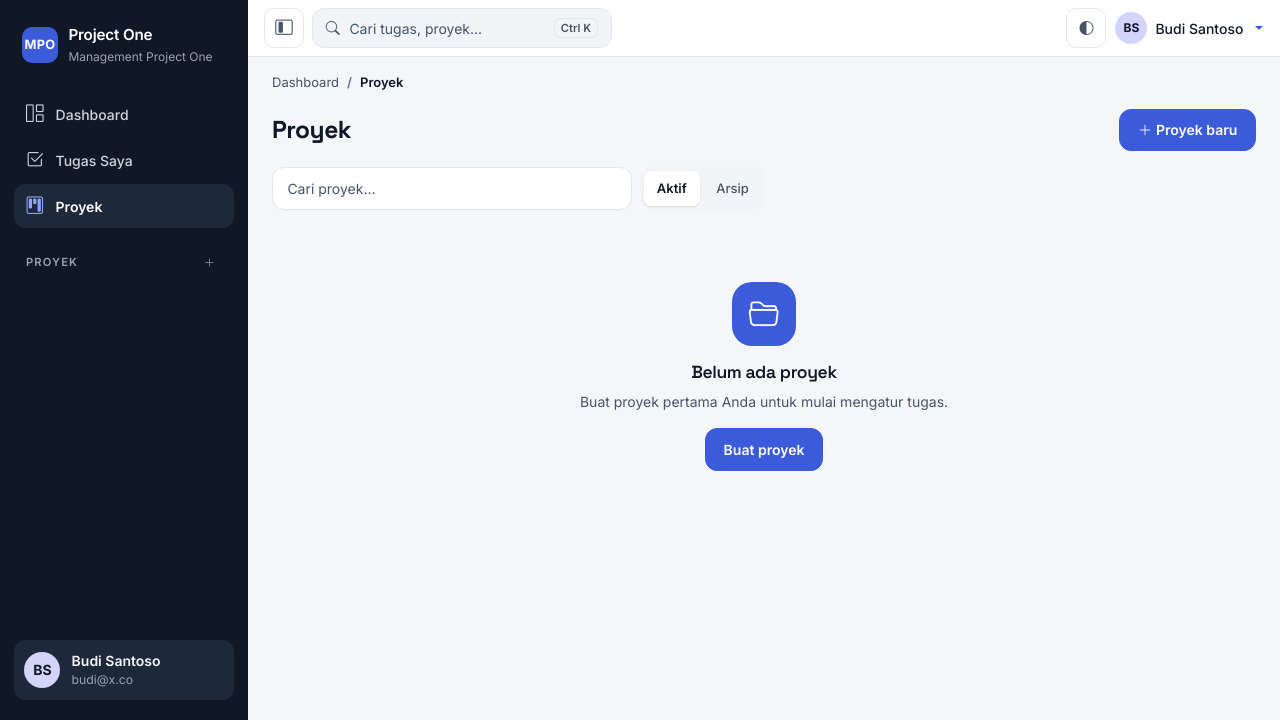
Test: daftar proyek › kosong: ajakan membuat proyek; hasil pencarian kosong: pesan berbeda
Check: the heading "Belum ada proyek" is shown, box x1=691 y1=362 x2=837 y2=384
Type "zzz" into the search field labelled "Cari proyek" at (452, 189), box x1=272 y1=167 x2=632 y2=210
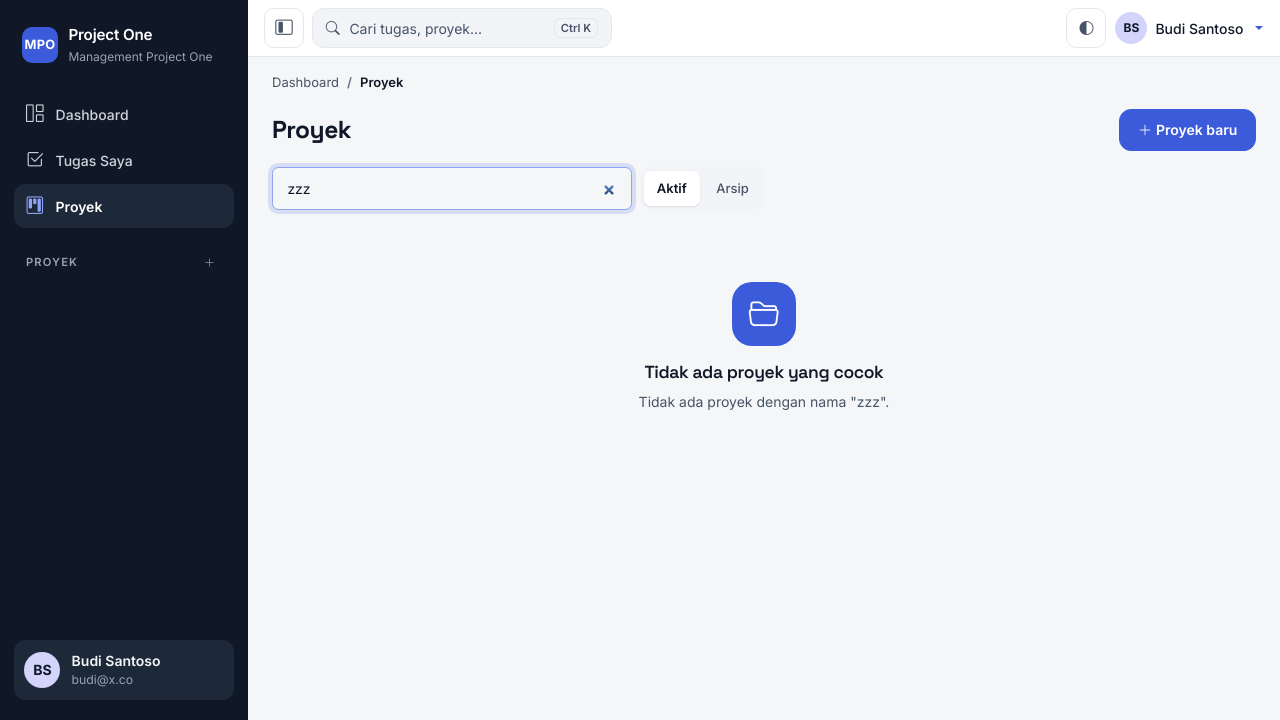
Check: the heading "Tidak ada proyek yang cocok" is shown, box x1=644 y1=362 x2=884 y2=384
